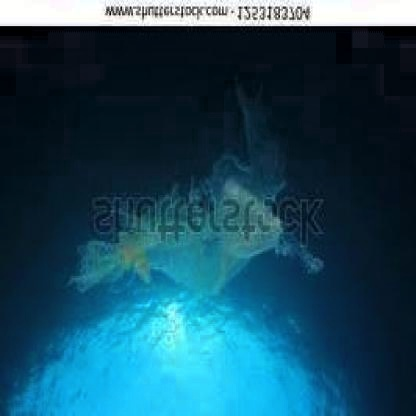pbag: (66, 74, 325, 300)
